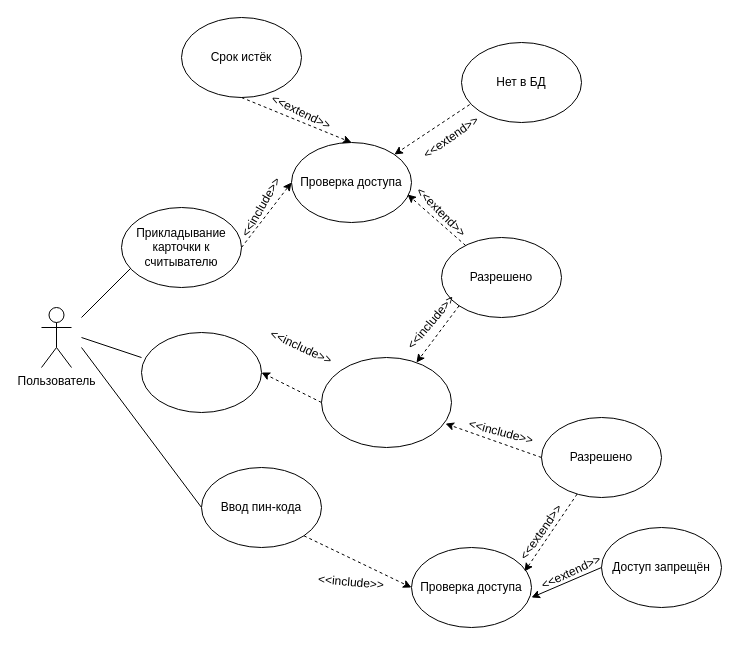
This 739x645 diagram has some shape labels left out. The shapes that lost their labels are listed below. From the top down, each one's centre as x and y in pixels, then its label:
At (x=201, y=372): "Проход на закрытую территорию".
At (x=386, y=402): "Разрешение доступа на закрытую территорию".
